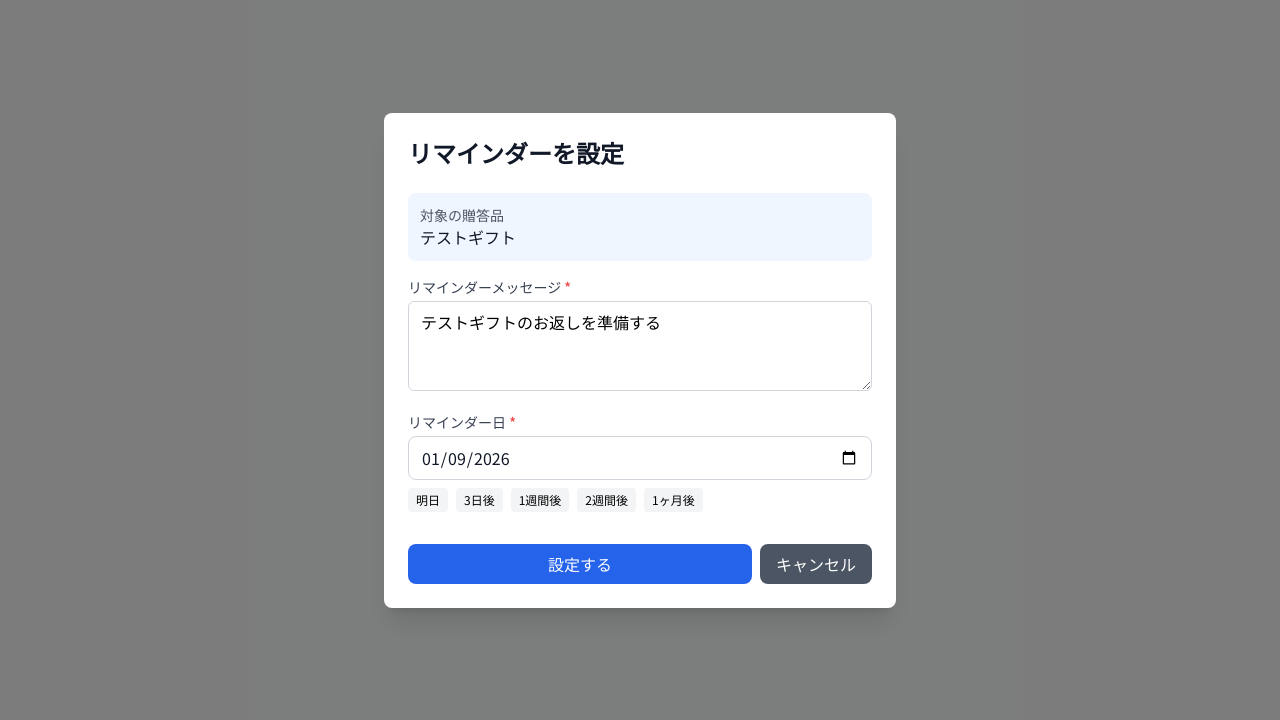
Test: ReminderForm › エラー入力時にエラーがクリアされる
メッセージをクリアしてエラーを発生させる
Clear the text box with placeholder "お返しを準備する、連絡するなど": point(640, 346) [408,300,872,390]
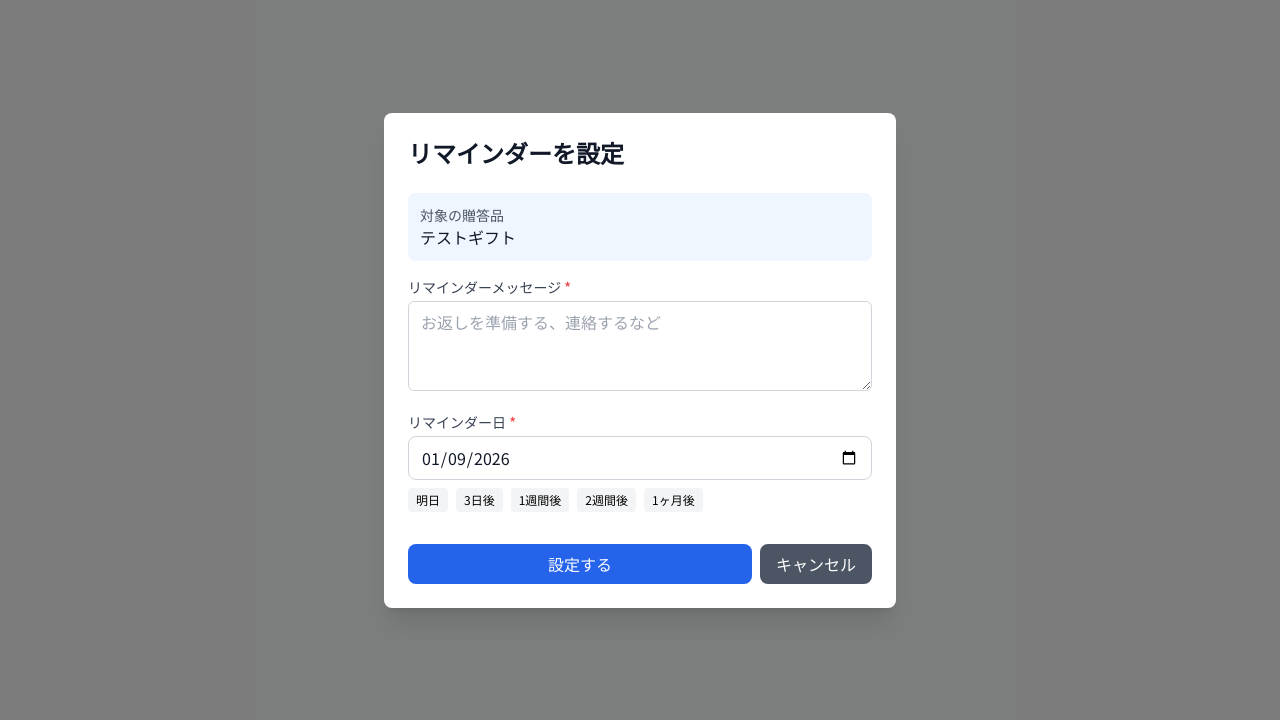
Click the button "設定する": point(580, 564) [408,544,752,584]
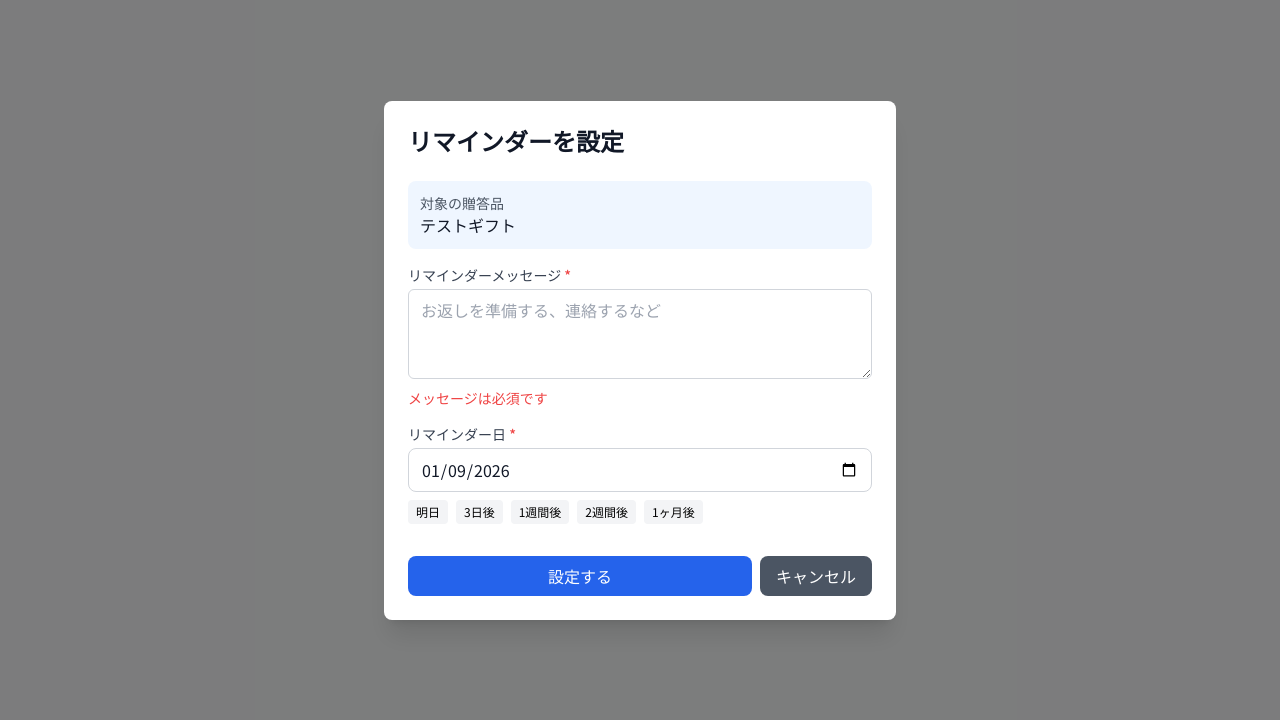
Check: the text "メッセージは必須です" is shown, box [408,388,548,408]
入力するとエラーがクリアされる
In the text box with placeholder "お返しを準備する、連絡するなど": point(640, 334) [408,288,872,378], type "テストメッセージ"
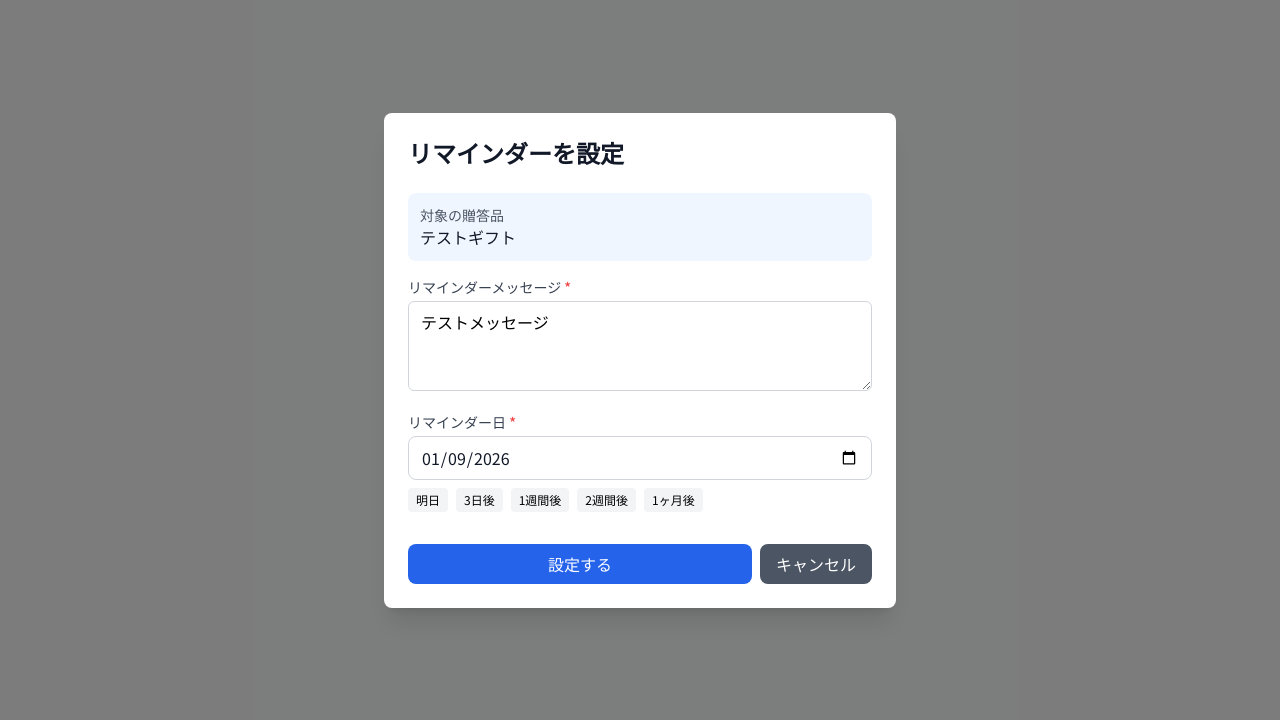
Check: the text "メッセージは必須です" is gone
